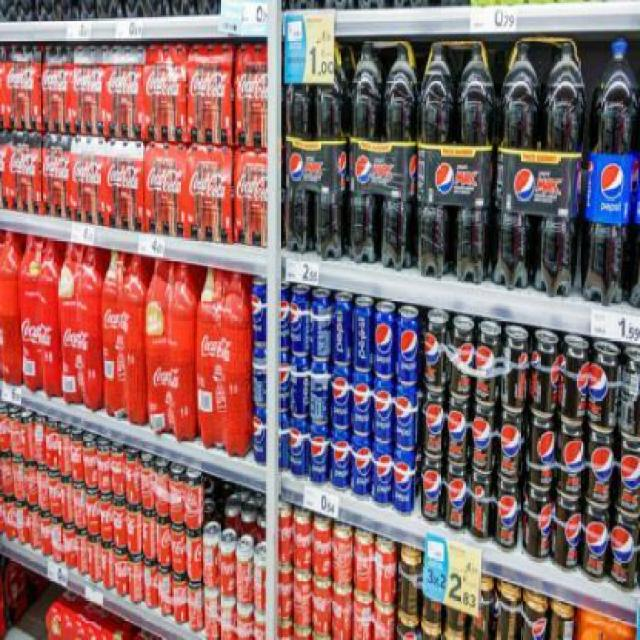Drinks: (582, 37, 638, 305), (533, 40, 584, 295), (495, 42, 540, 289), (196, 265, 252, 457), (456, 42, 496, 284), (146, 256, 197, 441), (382, 42, 418, 270), (418, 44, 453, 278), (102, 249, 146, 428), (347, 39, 382, 262), (59, 241, 103, 413), (314, 42, 348, 260), (18, 233, 62, 396), (284, 44, 316, 253), (186, 44, 232, 144), (186, 146, 232, 242), (143, 141, 186, 237), (144, 46, 187, 142), (105, 44, 144, 138), (105, 138, 144, 231), (234, 44, 268, 148), (234, 149, 268, 246), (588, 339, 622, 433), (70, 134, 104, 226), (4, 44, 41, 128), (5, 132, 41, 212), (73, 44, 104, 136), (560, 333, 591, 425), (529, 328, 560, 419), (40, 134, 71, 218), (521, 485, 553, 564), (41, 45, 70, 132), (586, 426, 616, 509), (502, 324, 529, 416), (526, 413, 557, 493), (610, 510, 639, 595), (582, 502, 612, 584), (557, 419, 586, 501), (554, 494, 583, 574), (476, 320, 502, 406), (424, 308, 450, 390), (498, 405, 525, 483), (450, 314, 475, 398), (615, 431, 639, 515), (494, 477, 520, 554), (472, 398, 498, 474), (470, 468, 495, 544), (445, 460, 470, 534), (396, 305, 419, 384), (448, 392, 472, 466), (420, 456, 446, 524), (617, 344, 638, 428), (422, 389, 448, 456), (393, 381, 418, 450), (393, 447, 418, 516), (375, 300, 396, 378), (332, 292, 354, 366), (289, 285, 311, 358), (311, 287, 332, 362), (354, 296, 374, 372), (372, 375, 394, 443), (372, 441, 394, 508), (310, 358, 332, 424), (309, 423, 331, 489), (331, 362, 352, 430), (351, 433, 372, 501), (288, 415, 310, 479), (351, 369, 372, 436), (290, 354, 310, 418), (331, 429, 351, 493), (252, 276, 266, 347), (252, 348, 266, 417), (252, 408, 266, 466)
